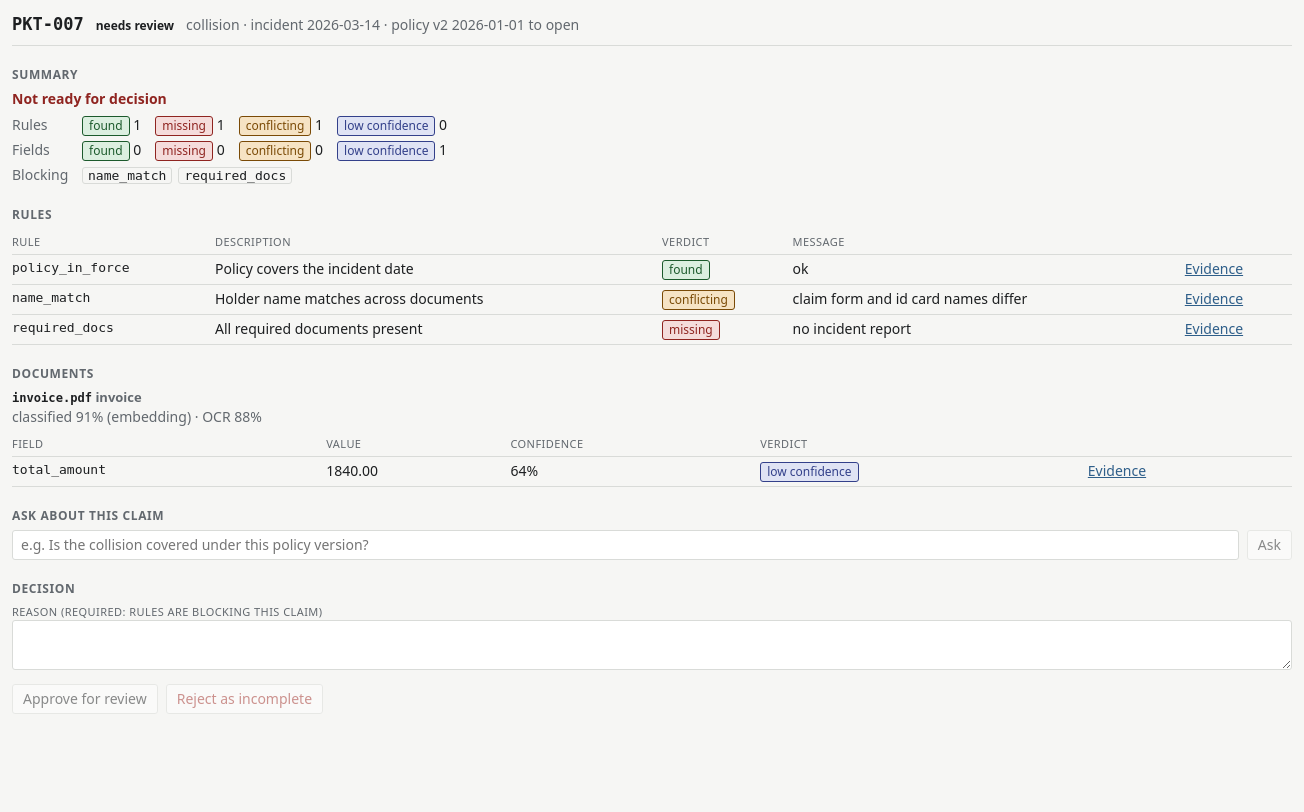
Test: ReviewPanel › shows field confidence as a percentage and reveals evidence on demand
Expected: the text "64%" is shown, x1=510 y1=456 x2=760 y2=486
Expected: the text "Total 1840.00" is not shown
Click the button named "Evidence for total_amount".
click(1117, 471)  # box x1=1088 y1=461 x2=1146 y2=481
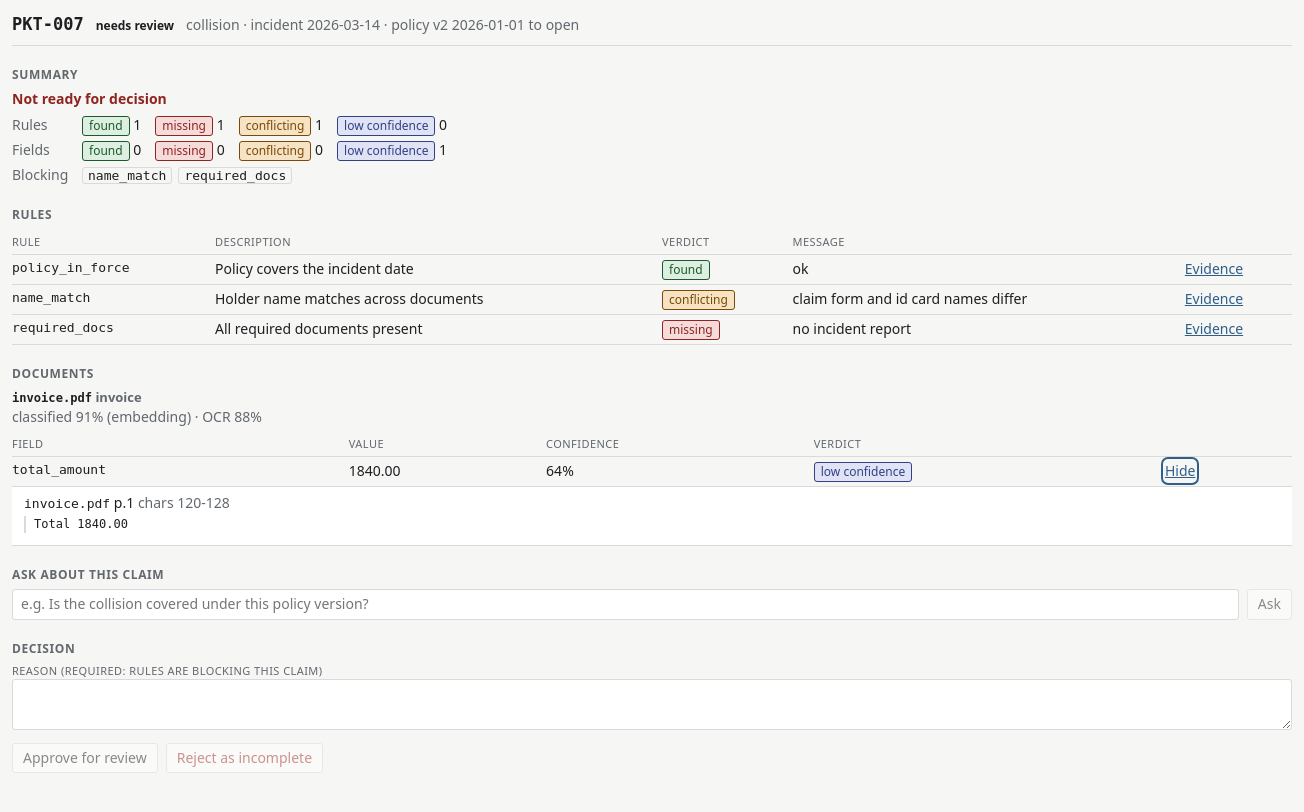
Result: the text "Total 1840.00" is shown at x1=24 y1=516 x2=1280 y2=533
